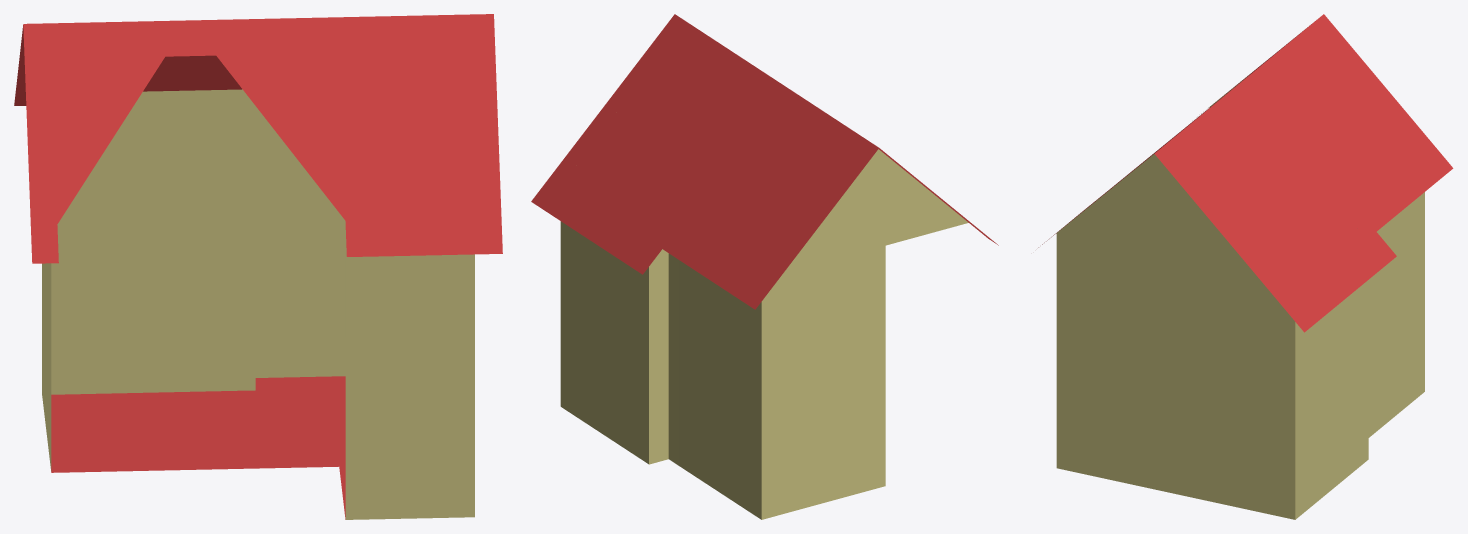
3 renders of one model, left to right at view 1: azimuth 30°, elevation 25°; view 2: azimuth 150°, elevation 25°; view 3: azimuth 270°, elevation 25°, orthographic. The views are drawn at different scales.
Size of the model in its own units: 16.82 by 15.14 by 13.59.
